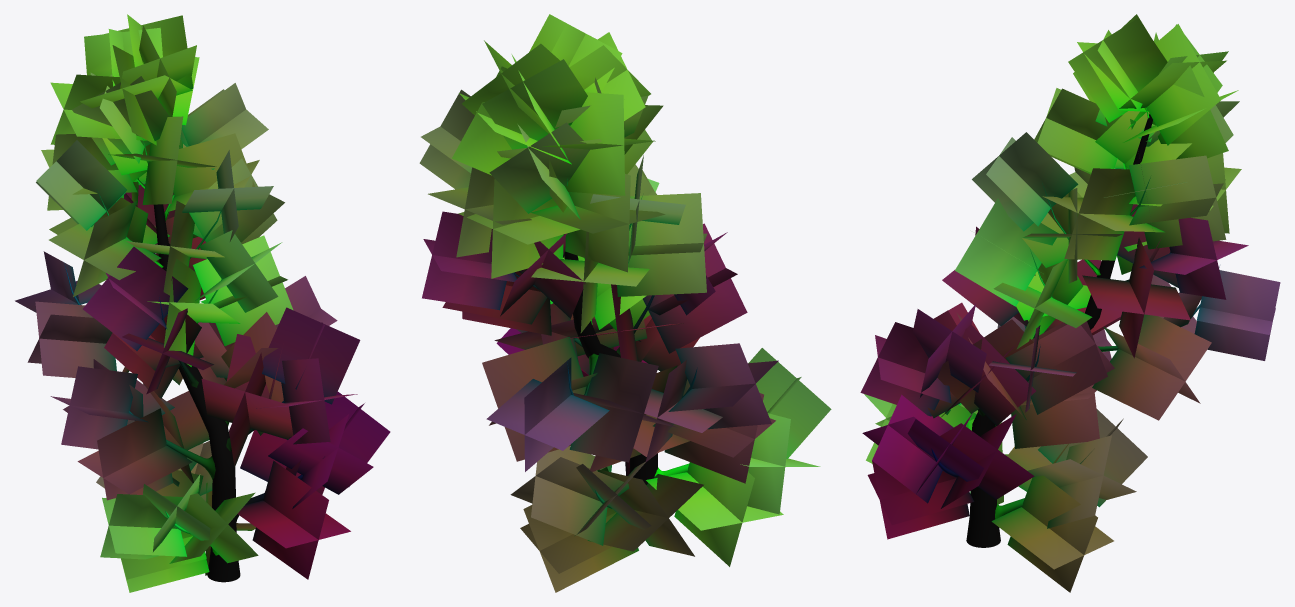
File: URP_P7_Tree_12_LOD_1.fbx
3 views of the same model, side by side, from view 1: azimuth 30°, elevation 25°; view 2: azimuth 150°, elevation 25°; view 3: azimuth 270°, elevation 25° (orthographic). The views are drawn at different scales.
Parts seen in each view (by area): view 1: Tree_12_LOD_1; view 2: Tree_12_LOD_1; view 3: Tree_12_LOD_1.
Boxes of the visible parts, <box> form: Tree_12_LOD_1: <box>15,14,390,592</box>; Tree_12_LOD_1: <box>419,14,831,592</box>; Tree_12_LOD_1: <box>860,14,1280,592</box>.
Size of the model in its own units: 231 by 424 by 292.
